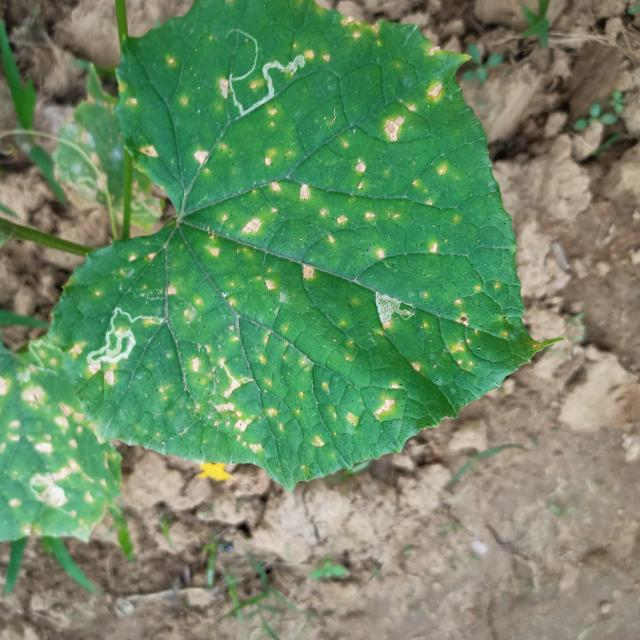disease_cucumber: (98, 42, 494, 442), (3, 384, 97, 528)
